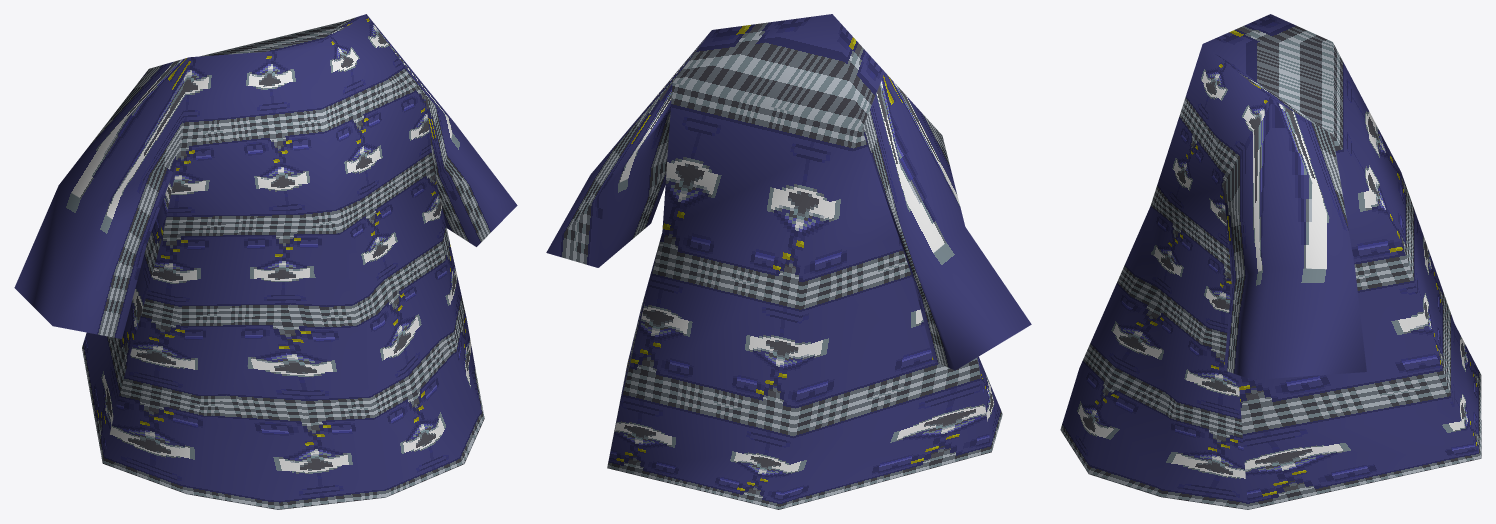
The model's file is 2573dress000_r.gltf.
3 views of the same model, side by side, from view 1: azimuth 30°, elevation 25°; view 2: azimuth 150°, elevation 25°; view 3: azimuth 270°, elevation 25° (orthographic). The views are drawn at different scales.
Visible parts, largest first — view 1: 2573dress000_r; view 2: 2573dress000_r; view 3: 2573dress000_r.
Part boxes in pixels (x1,y1,x2,y2): 2573dress000_r: (14, 14, 517, 509); 2573dress000_r: (546, 14, 1031, 509); 2573dress000_r: (1060, 14, 1481, 509).
Bounding box in the file's own units: 1.09 × 0.8945 × 0.8848.
Materials: 1 (1 with a texture image).
